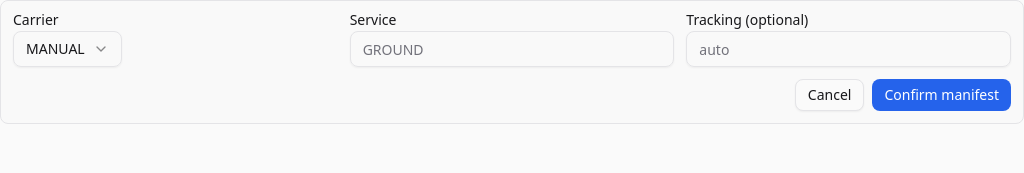
Test: ManifestForm › blocks an empty service
Click the button "Confirm manifest". click: (942, 95)
box: [872, 79, 1011, 111]
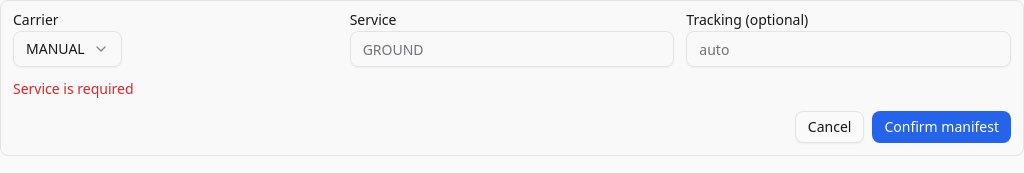
Result: the text "Service is required" is shown at [13, 79, 134, 98]
